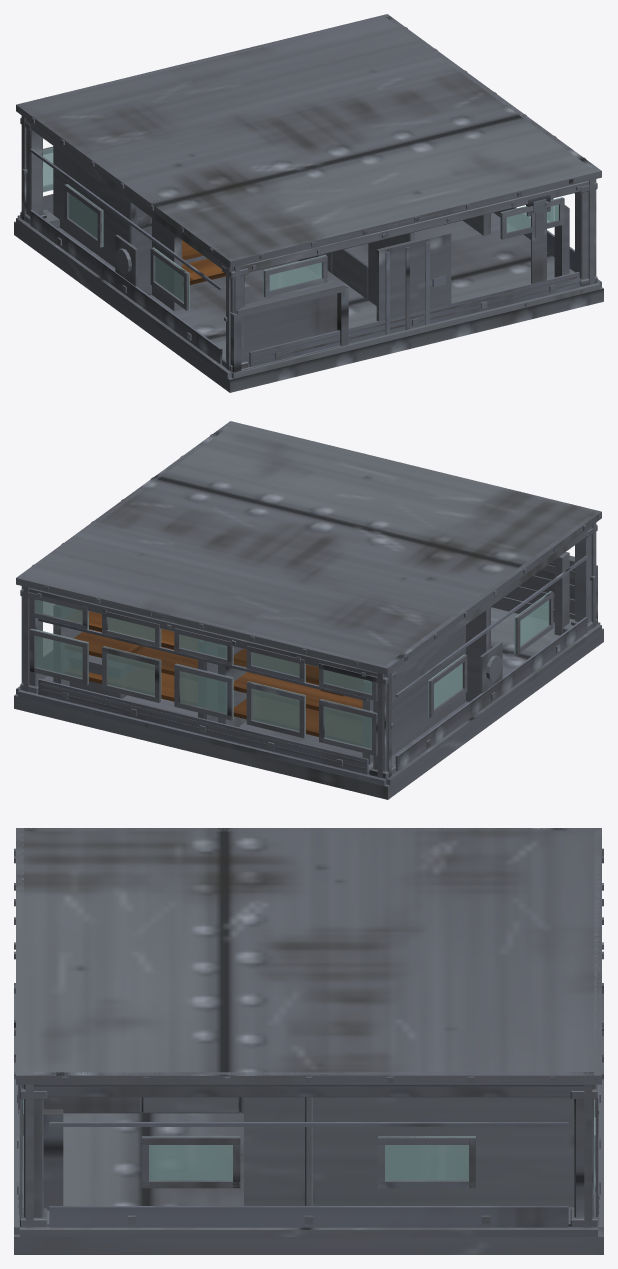
The picture shows the model from 3 angles, top to bottom: view 1: azimuth 30°, elevation 25°; view 2: azimuth 150°, elevation 25°; view 3: azimuth 270°, elevation 25°; orthographic projection. The views are drawn at different scales.
Visible parts, largest first — view 1: SM_HDBF_BoxFarm_Top_LOD0; view 2: SM_HDBF_BoxFarm_Top_LOD0; view 3: SM_HDBF_BoxFarm_Top_LOD0.
Boxes of the visible parts, bbox=[...] form: SM_HDBF_BoxFarm_Top_LOD0: bbox=[14, 14, 603, 392]; SM_HDBF_BoxFarm_Top_LOD0: bbox=[14, 421, 603, 799]; SM_HDBF_BoxFarm_Top_LOD0: bbox=[14, 828, 603, 1254].
Bounding box in the file's own units: 3 × 1 × 3.
4 materials, 4 textured.
